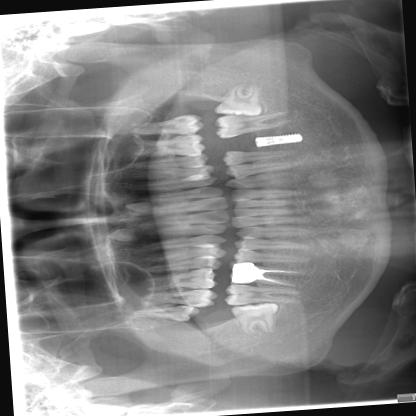ITI: (251, 130, 304, 149)
